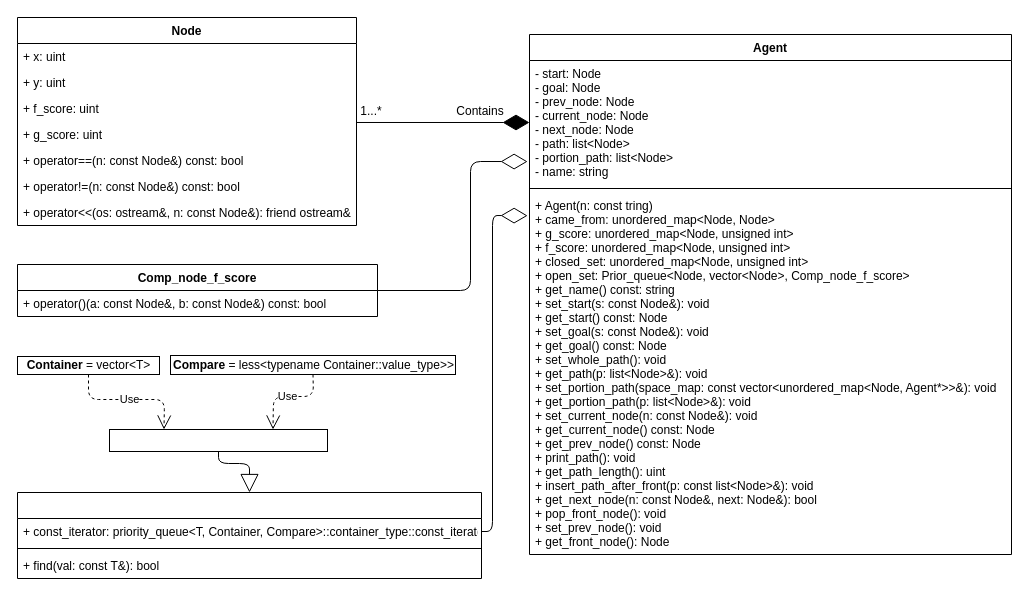
The diagram is 1029 pixels wide and 599 high, and some of its shapes have lost their labels. Each missing label, with the box of its shape:
Prior_queue: (16, 492, 482, 578)
priority_queue<T, Container, Compare>: (108, 428, 328, 452)
